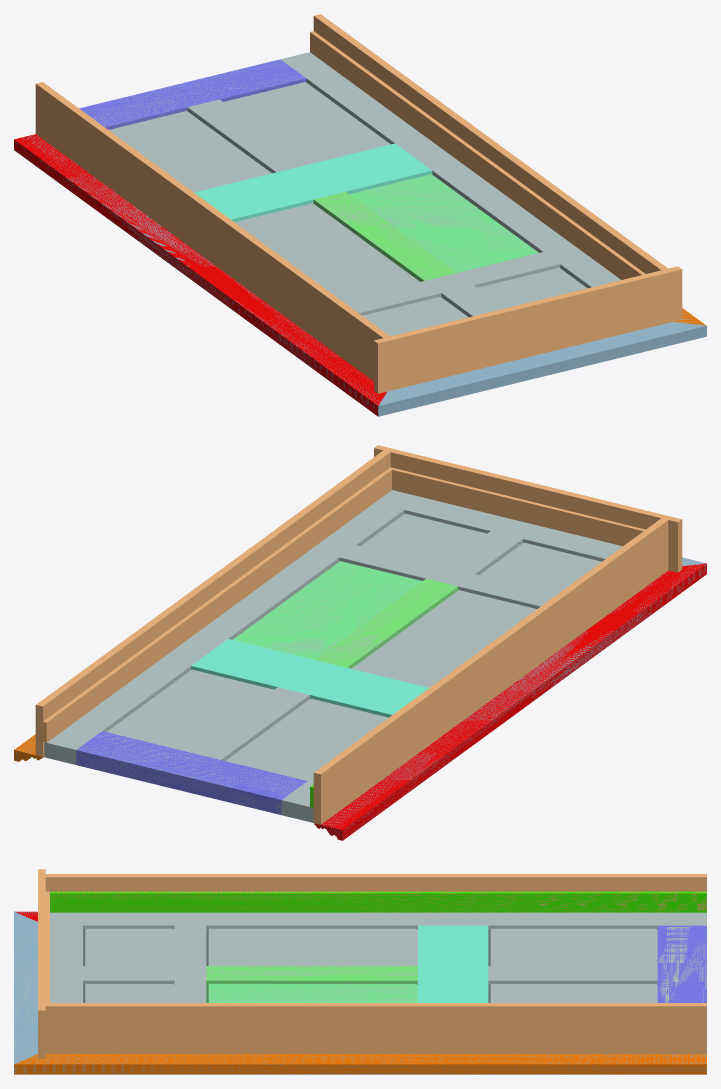
The model's file is JY-05+DOOR.fbx.
3 views of the same model, one above another, from view 1: azimuth 30°, elevation 25°; view 2: azimuth 150°, elevation 25°; view 3: azimuth 270°, elevation 25° (orthographic). The views are drawn at different scales.
Parts seen in each view (by area): view 1: COL060_1, COL040_1, COL010_1, COL061_1, COL101_1, COL081_1, COL121_1, COL090_1, COL070_1, COL020_1, COL151_1, COL141_1 (+7 smaller); view 2: COL060_1, COL010_1, COL061_1, COL101_1, COL090_1, COL171_1, COL081_1, COL070_1, COL121_1, COL151_1, COL141_1, COL040_1 (+9 smaller); view 3: COL070_1, COL080_1, COL030_1, COL060_1, COL021_1, COL081_1, COL141_1, COL121_1, COL101_1, COL171_1, COL091_1, COL031_1 (+9 smaller).
Boxes of the visible parts, x1,y1,x2,y2 form: COL060_1: [35, 82, 391, 381]; COL040_1: [374, 266, 682, 393]; COL010_1: [14, 134, 386, 416]; COL061_1: [281, 52, 620, 288]; COL101_1: [349, 174, 538, 272]; COL081_1: [235, 203, 419, 300]; COL121_1: [194, 143, 432, 221]; COL090_1: [310, 31, 645, 279]; COL070_1: [313, 14, 667, 273]; COL020_1: [378, 322, 706, 416]; COL151_1: [223, 82, 390, 164]; COL141_1: [109, 111, 271, 192]; COL060_1: [313, 517, 668, 824]; COL010_1: [314, 563, 706, 840]; COL061_1: [44, 490, 421, 764]; COL101_1: [233, 561, 422, 659]; COL090_1: [43, 469, 391, 742]; COL171_1: [76, 731, 307, 814]; COL081_1: [351, 590, 536, 687]; COL070_1: [35, 450, 391, 756]; COL121_1: [191, 639, 428, 717]; COL151_1: [107, 669, 273, 751]; COL141_1: [226, 698, 388, 780]; COL040_1: [374, 445, 682, 572]; COL070_1: [42, 1003, 706, 1053]; COL080_1: [50, 891, 706, 912]; COL030_1: [14, 1054, 706, 1074]; COL060_1: [42, 874, 706, 891]; COL021_1: [50, 912, 706, 929]; COL081_1: [206, 928, 417, 965]; COL141_1: [488, 928, 657, 965]; COL121_1: [418, 925, 488, 1002]; COL101_1: [206, 984, 417, 1002]; COL171_1: [657, 925, 706, 1002]; COL091_1: [206, 966, 417, 984]; COL031_1: [83, 928, 174, 965].
Size of the model in its own units: 1024 by 182 by 1966.
